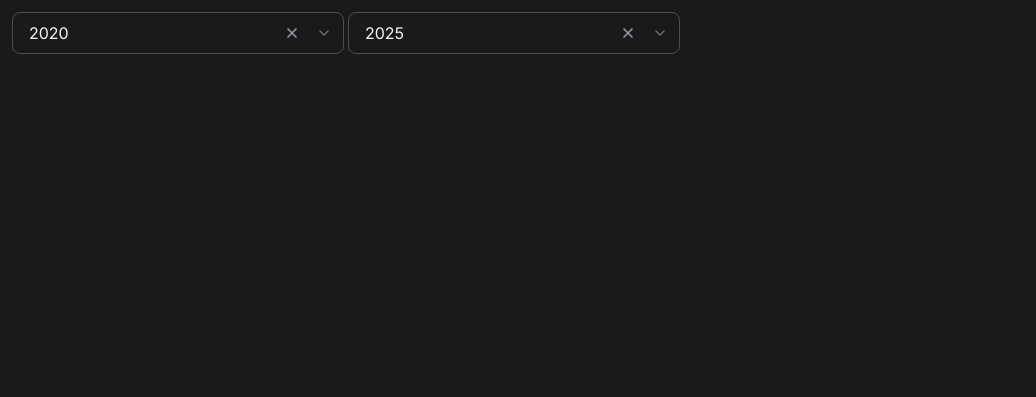
Test: YearRangePicker Component › Year Range Coordination › should update from max when to value changes
Focus the 1st field with placeholder "From year" at [178, 33], box x1=12 y1=12 x2=344 y2=54
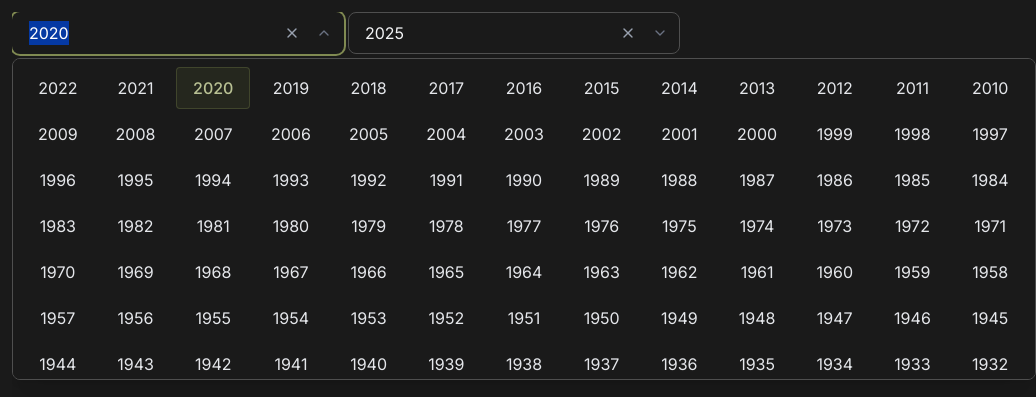
Check: the button "2022" is shown, box x1=21 y1=67 x2=95 y2=109
